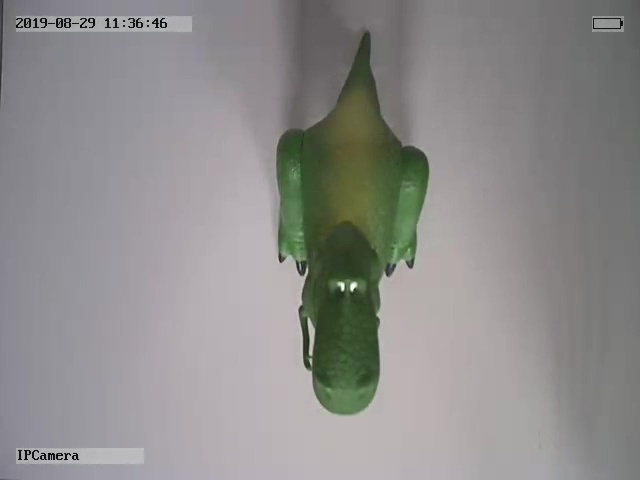rex: (274, 31, 431, 416)
